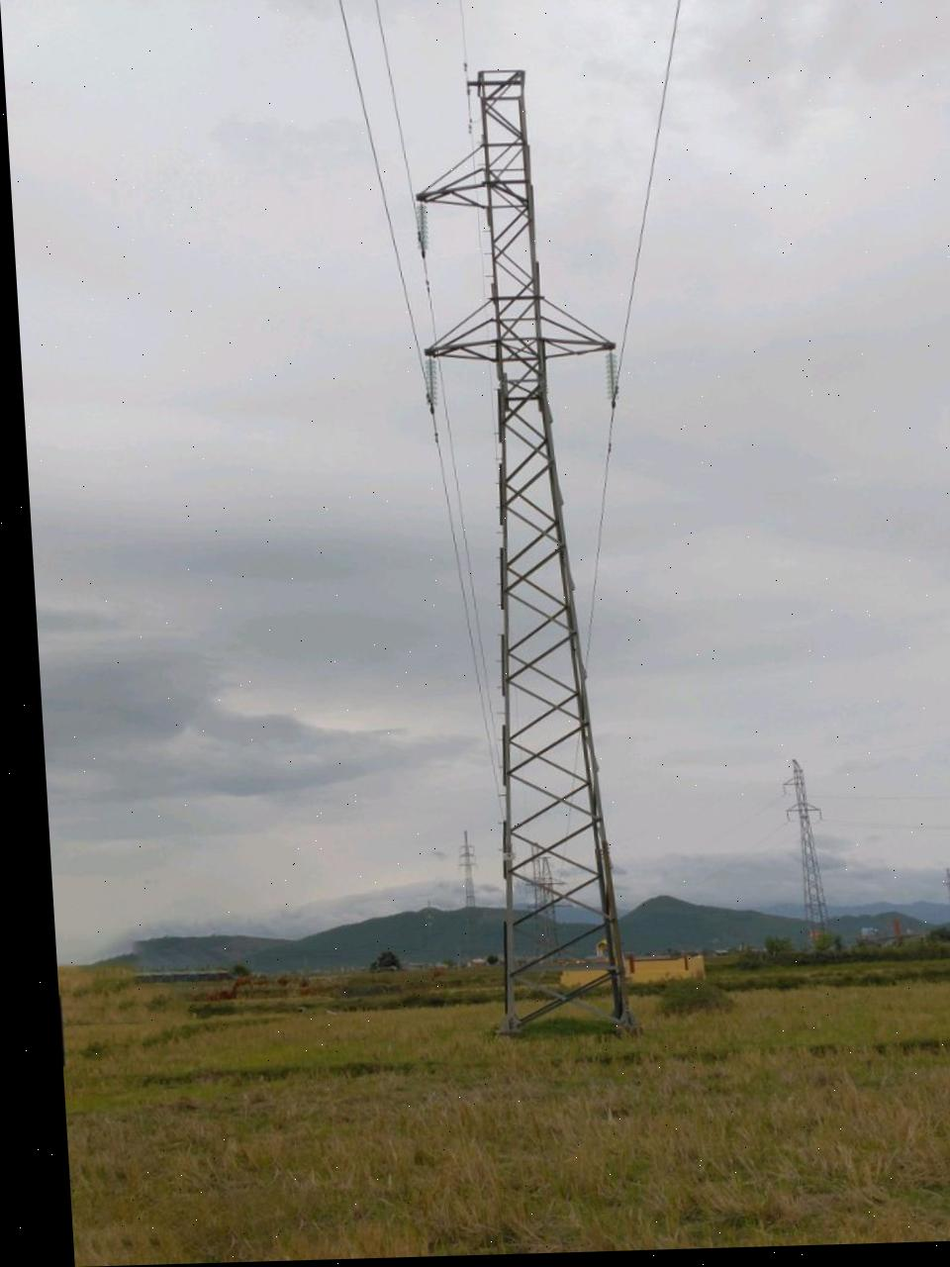tower: (396, 45, 670, 1054)
